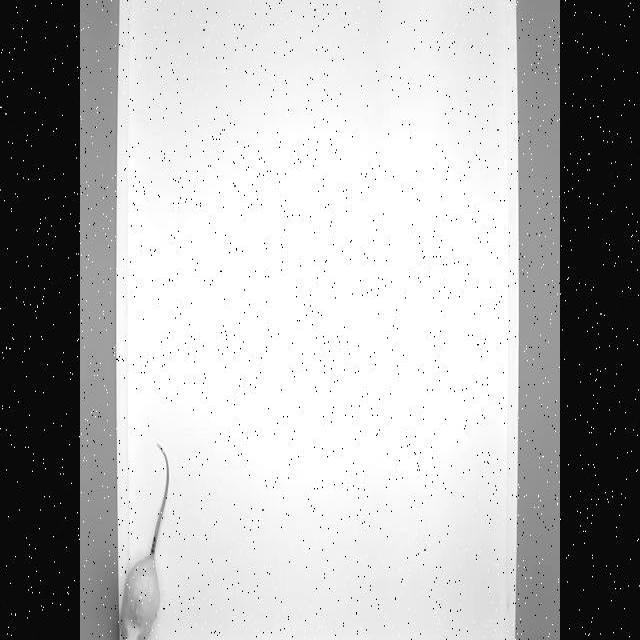rat: (117, 434, 172, 640)
